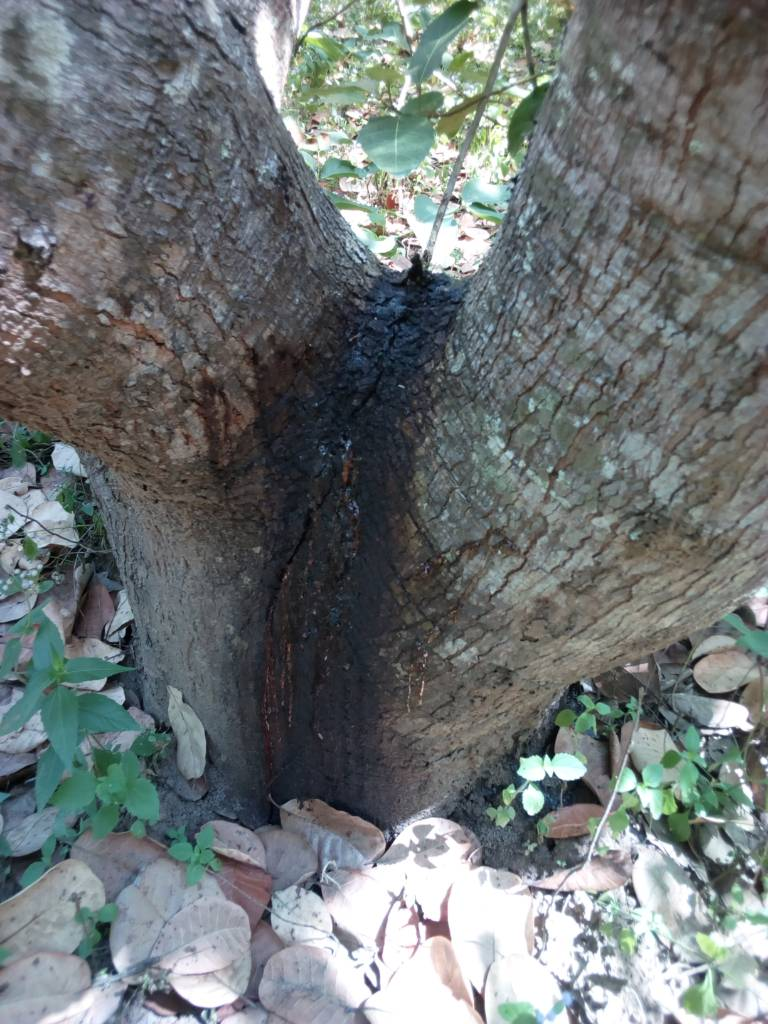Gommose: (236, 267, 469, 828)
